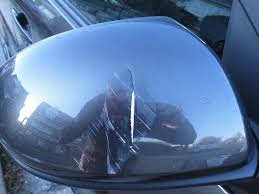Dent: (60, 72, 158, 178)
Scratch: (128, 90, 139, 144)
